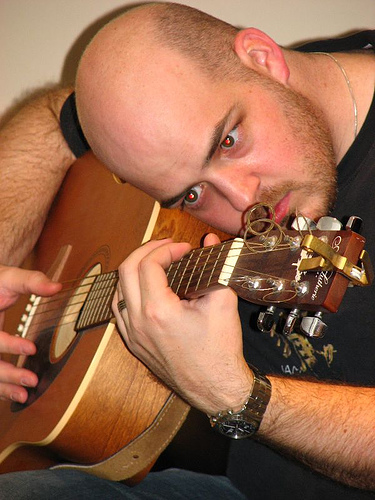guitar: (1, 141, 368, 475)
